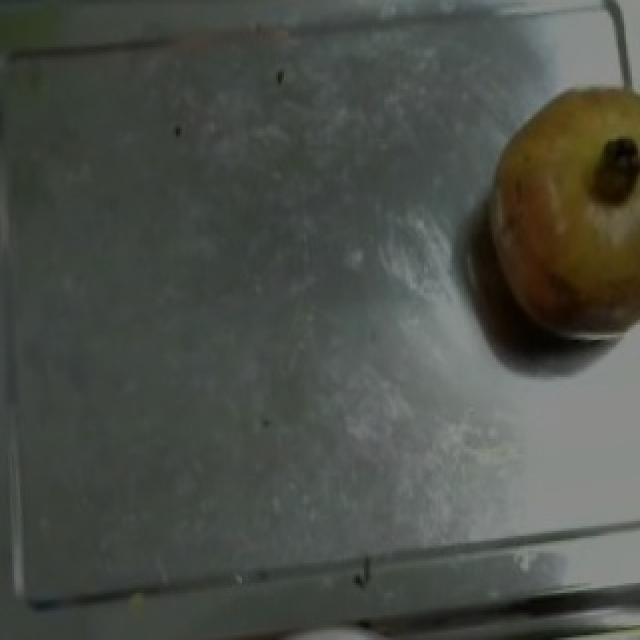fruit: (472, 65, 638, 342)
